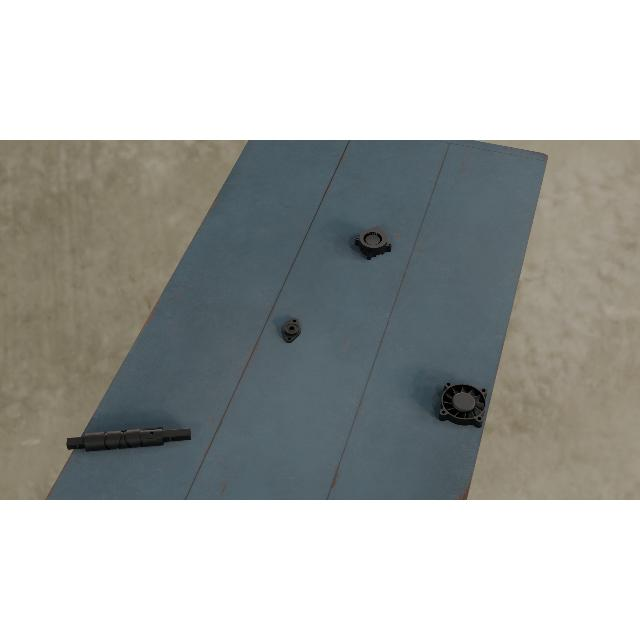Pieza1: (65, 422, 191, 456)
Pieza2: (280, 316, 304, 344)
Pieza3: (354, 226, 394, 262)
Pieza4: (438, 380, 488, 430)
